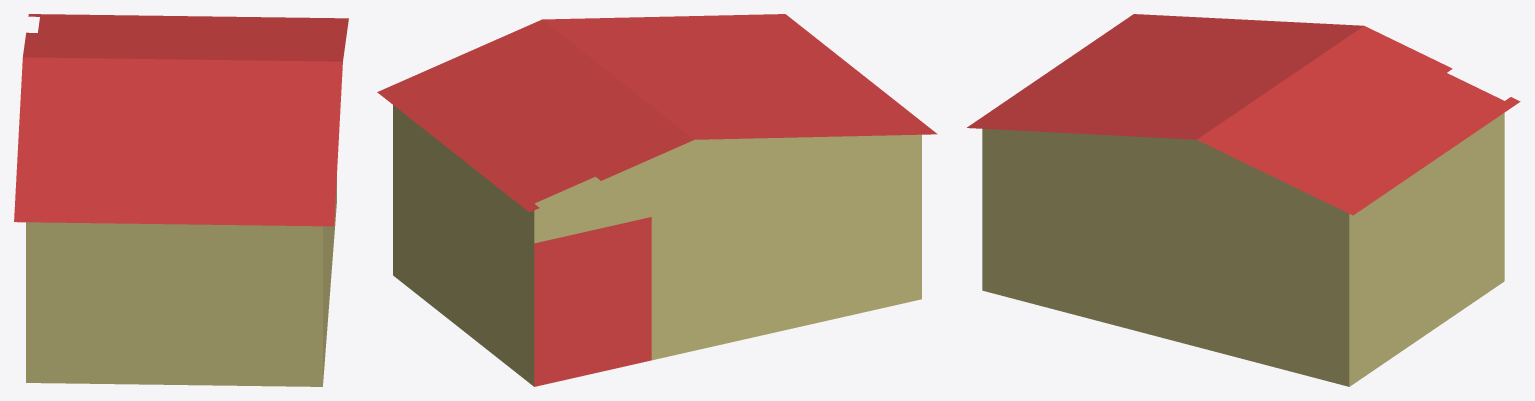
The picture shows the model from 3 angles, left to right: view 1: azimuth 30°, elevation 25°; view 2: azimuth 150°, elevation 25°; view 3: azimuth 270°, elevation 25°; orthographic projection.
Bounding box in the file's own units: 22.03 × 23.94 × 10.14.
